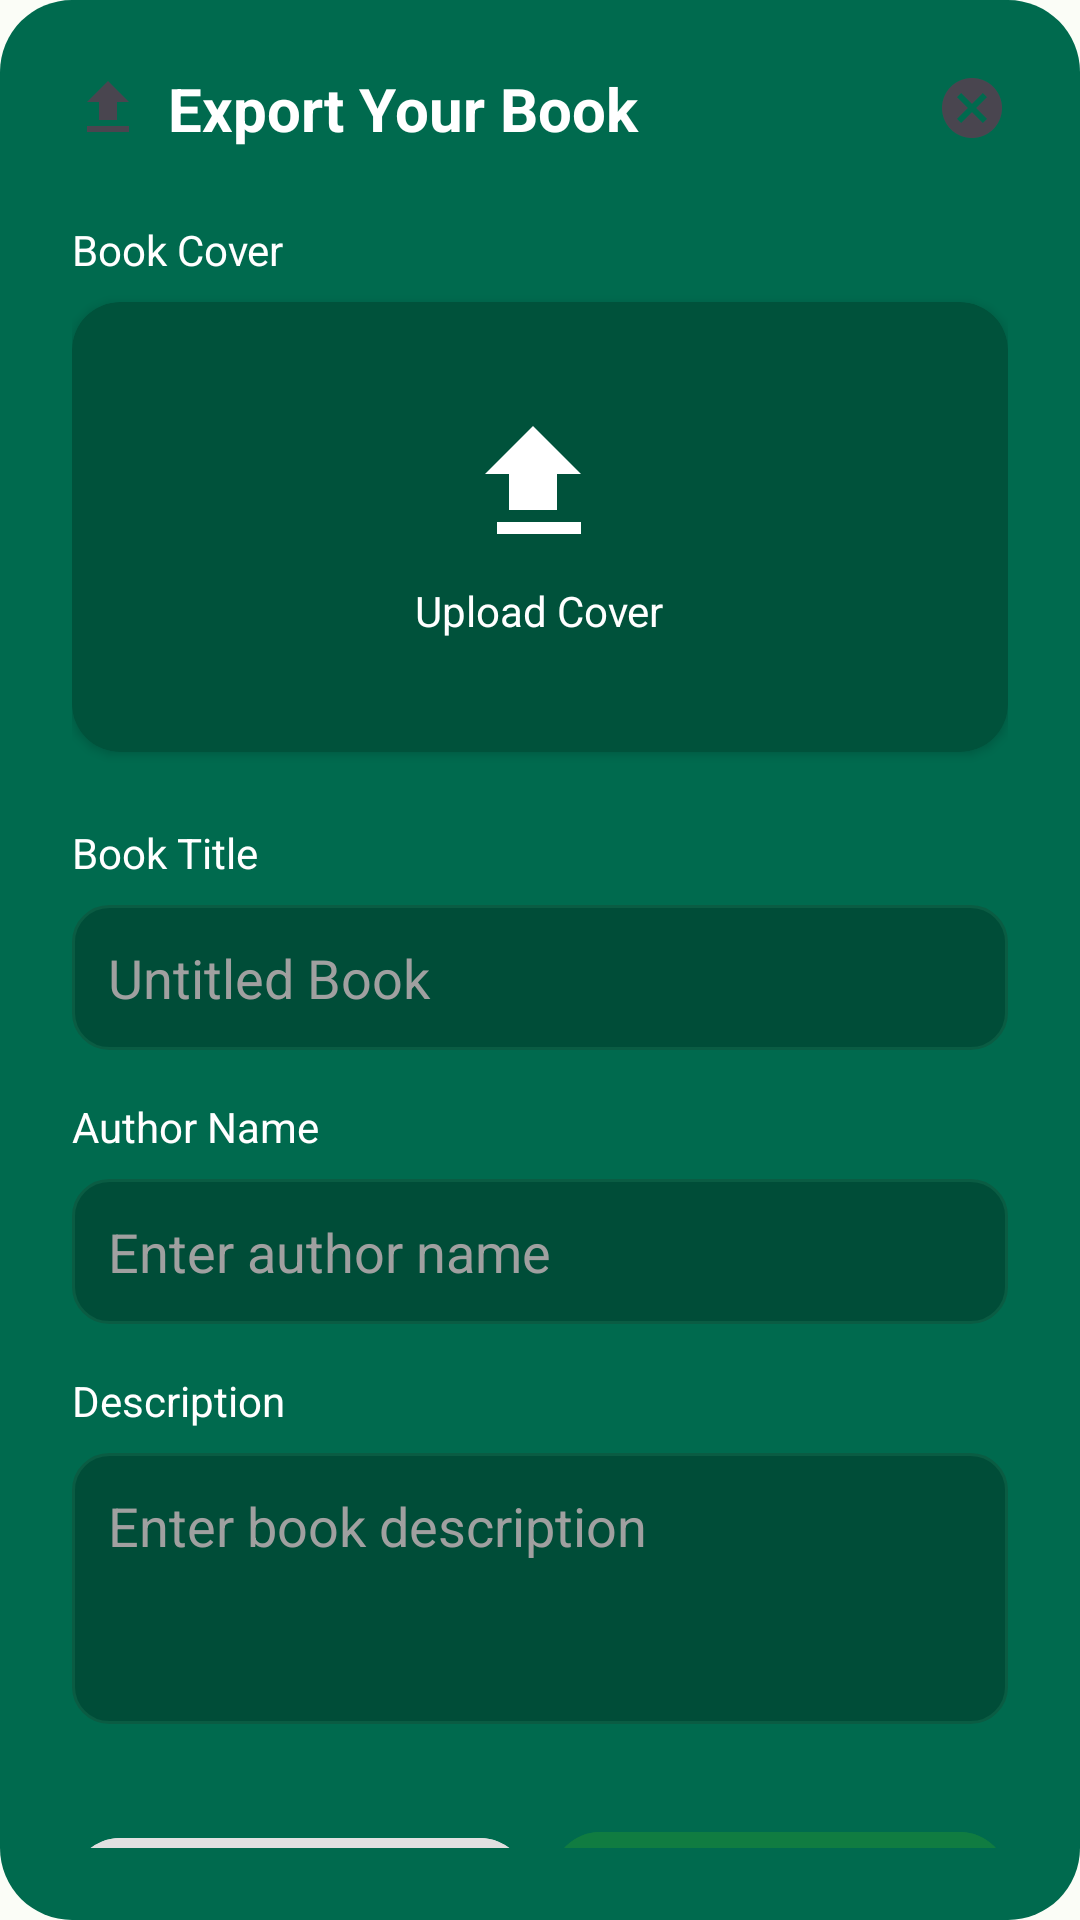

Screen size 1080*1920. Icon name, then its box in pixels as bbox(x1, y1, x2, y2):
close circle: bbox(942, 78, 1002, 138)
